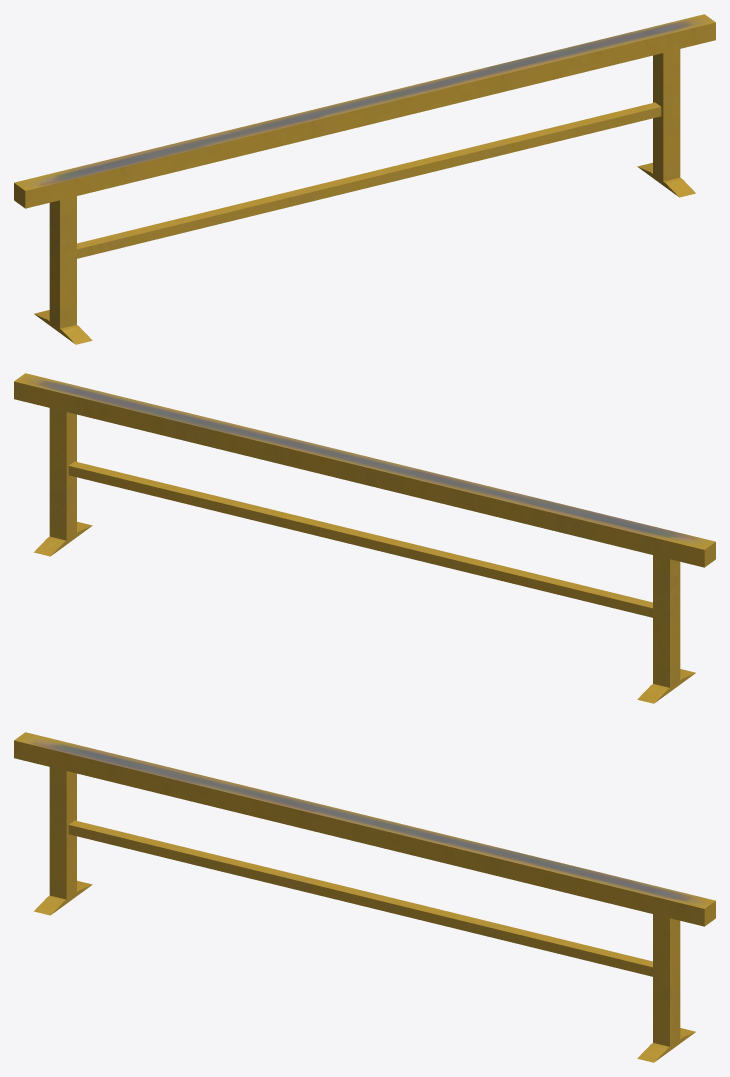
Rendered from skate-rail.lod1.glb.
The picture shows the model from 3 angles, top to bottom: view 1: azimuth 30°, elevation 25°; view 2: azimuth 150°, elevation 25°; view 3: azimuth 330°, elevation 25°; orthographic projection.
Visible parts, largest first — view 1: RailStraight_M_Rail_0; view 2: RailStraight_M_Rail_0; view 3: RailStraight_M_Rail_0.
Boxes of the visible parts, x1,y1,x2,y2 form: RailStraight_M_Rail_0: (14,14,715,344); RailStraight_M_Rail_0: (14,373,715,703); RailStraight_M_Rail_0: (14,732,715,1062).
Bounding box in the file's own units: 3.09 × 0.6455 × 0.3284.
1 material, 1 textured.
